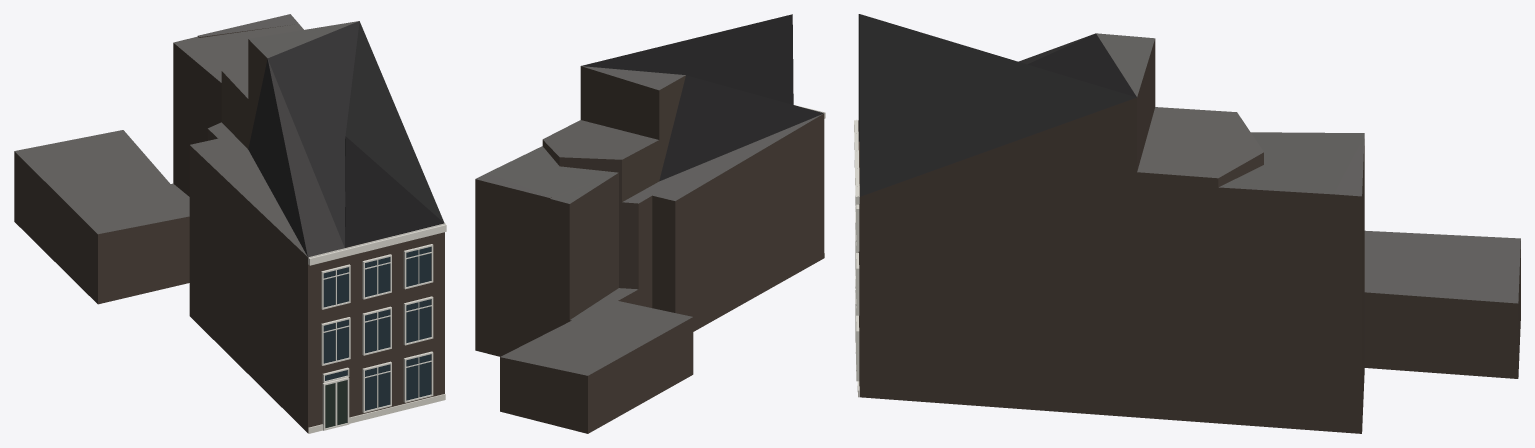
The picture shows the model from 3 angles, left to right: view 1: azimuth 30°, elevation 25°; view 2: azimuth 150°, elevation 25°; view 3: azimuth 270°, elevation 25°; orthographic projection. The views are drawn at different scales.
Parts seen in each view (by area): view 1: spec-0363100012171915; view 2: spec-0363100012171915; view 3: spec-0363100012171915.
Part boxes in pixels (<box>): spec-0363100012171915: <box>14,14,446,433</box>; spec-0363100012171915: <box>475,14,825,433</box>; spec-0363100012171915: <box>854,14,1520,433</box>.
Bounding box in the file's own units: 12.53 × 15.05 × 27.73.
